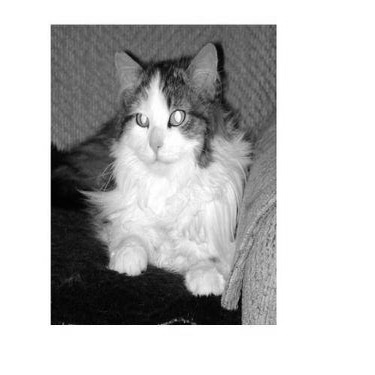cat: (48, 26, 247, 305)
